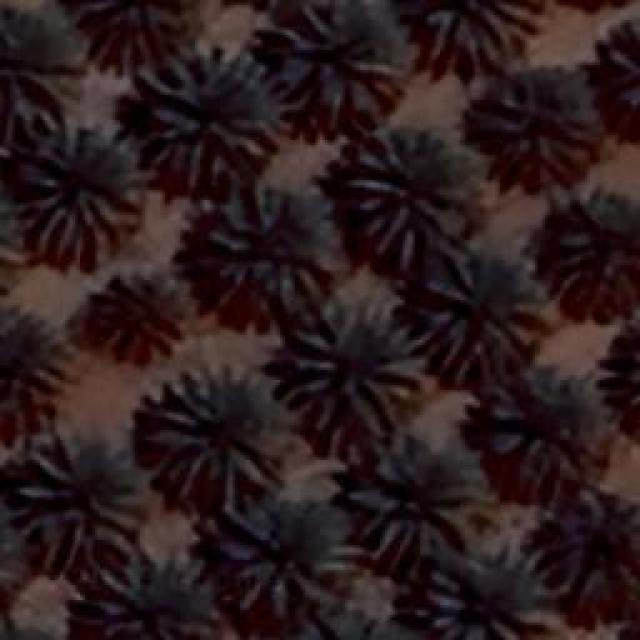PalmTree: (48, 98, 351, 625), (138, 31, 616, 98), (280, 294, 422, 448), (134, 45, 288, 175), (10, 122, 140, 268), (344, 125, 478, 265), (140, 362, 282, 490), (345, 438, 485, 560), (15, 432, 143, 558), (207, 182, 335, 302), (485, 360, 610, 480), (418, 255, 550, 368), (472, 67, 598, 185), (278, 8, 400, 120), (422, 542, 560, 638), (220, 495, 330, 615), (547, 487, 640, 620), (0, 0, 78, 155), (545, 195, 640, 318), (90, 552, 212, 638), (92, 262, 186, 356), (0, 291, 58, 439), (420, 0, 545, 62), (88, 0, 192, 50), (614, 302, 640, 438), (0, 495, 23, 619), (0, 176, 22, 301), (623, 309, 640, 436), (0, 492, 16, 616), (0, 616, 75, 640), (627, 310, 640, 432)
